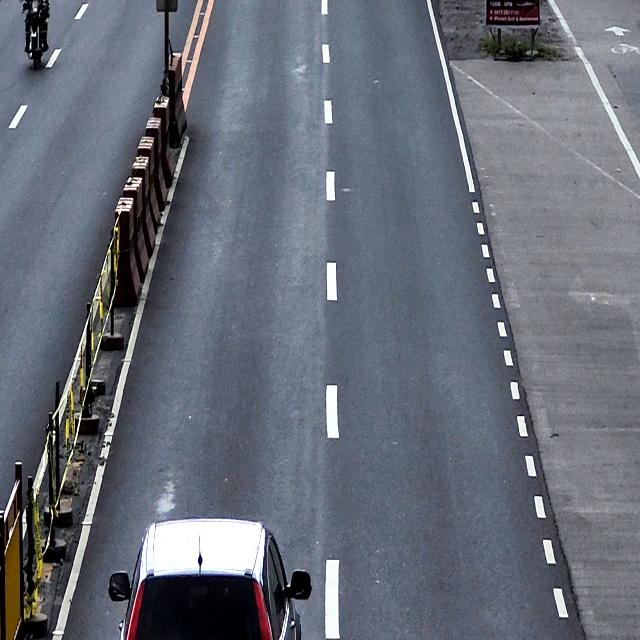Car: (108, 517, 312, 639)
Motorcycle: (21, 0, 50, 69)
